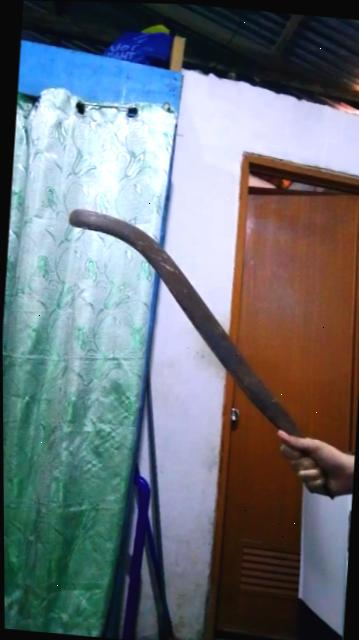long knife: (22, 204, 356, 499)
